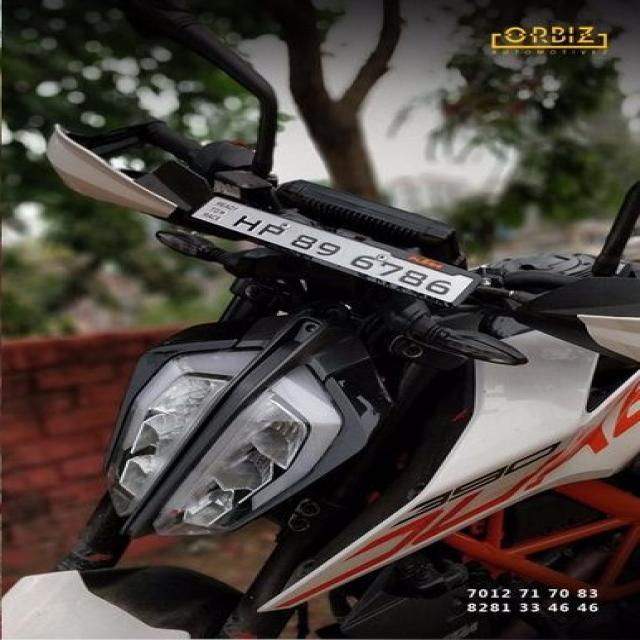Plate: (190, 191, 474, 301)
